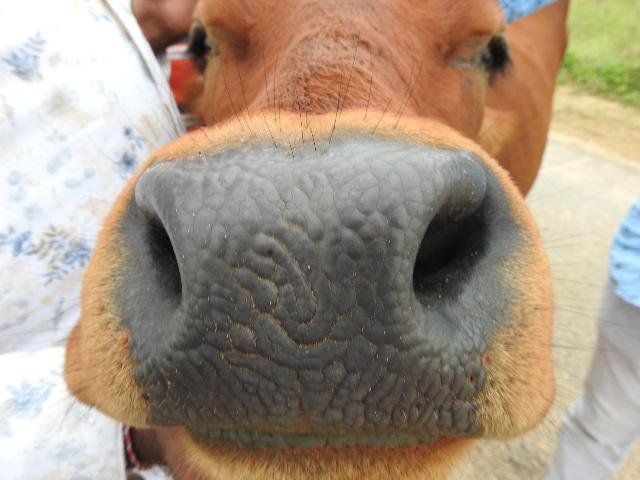Muzzle: (140, 160, 470, 434)
